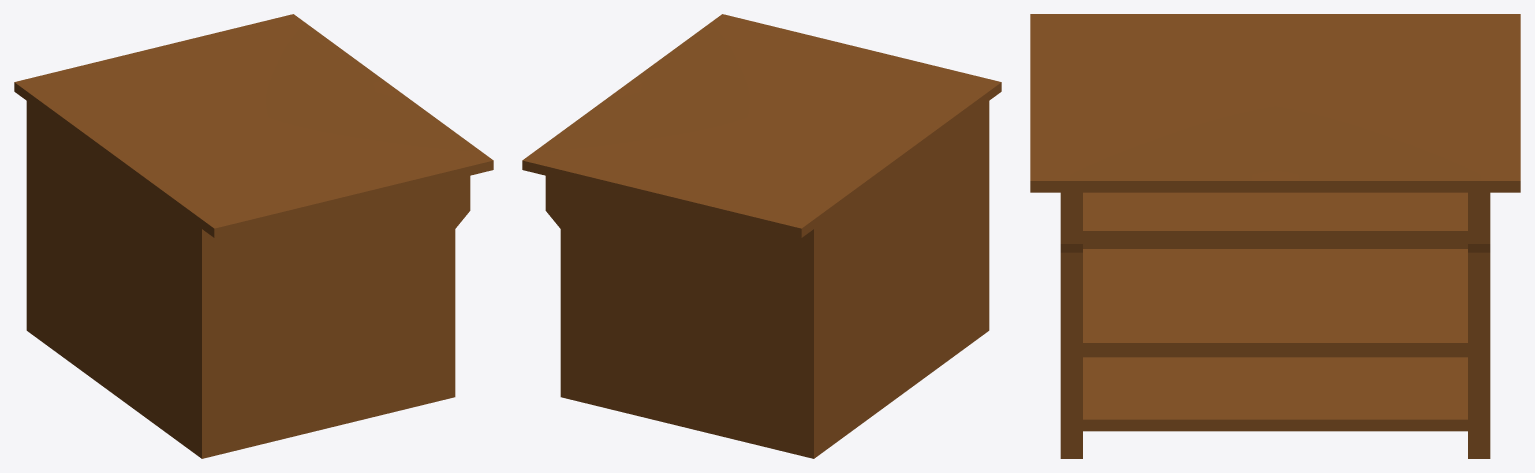
Rendered from estantezinha.fbx.
3 views of the same model, side by side, from view 1: azimuth 30°, elevation 25°; view 2: azimuth 150°, elevation 25°; view 3: azimuth 270°, elevation 25° (orthographic). The views are drawn at different scales.
Visible parts, largest first — view 1: Cube; view 2: Cube; view 3: Cube.
Part boxes in pixels (<box>): Cube: <box>14,14,493,458</box>; Cube: <box>522,14,1001,458</box>; Cube: <box>1030,14,1520,458</box>.
Size of the model in its own units: 1365 by 1118 by 1694.
